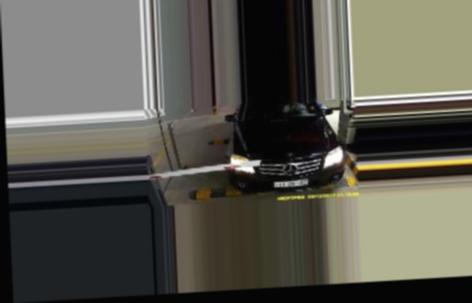License_Plate: (274, 177, 309, 189)
